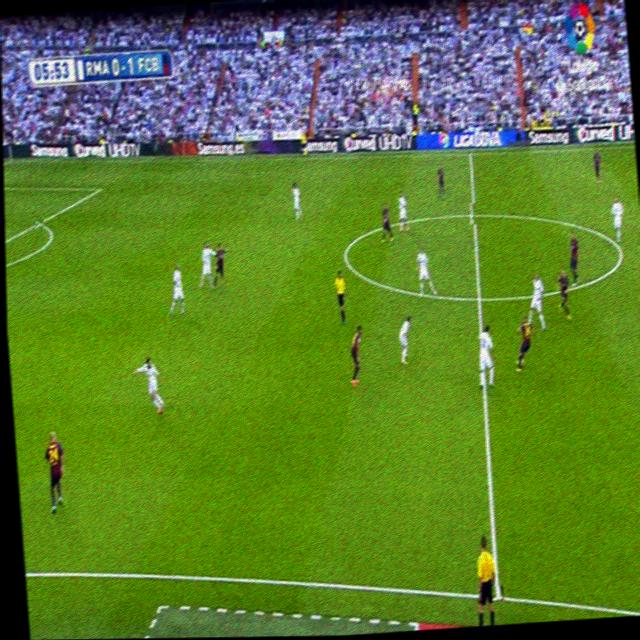bigarea_bottom_outter: (35, 215, 44, 230)
halfcircle_bottom: (472, 283, 486, 313)
halfcircle_top: (469, 203, 480, 224)
midline_bottom_intersection: (492, 585, 504, 606)
midline_top_intersection: (467, 147, 474, 161)
